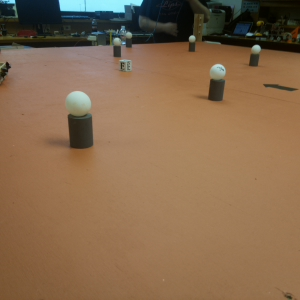blockE: (120, 58, 133, 75)
corner: (193, 14, 203, 42)
obstacle: (66, 91, 92, 155), (209, 64, 229, 105), (249, 44, 262, 68), (112, 37, 122, 60), (186, 35, 196, 54), (126, 31, 132, 50)
side: (1, 58, 11, 87)
start: (262, 81, 299, 93)
